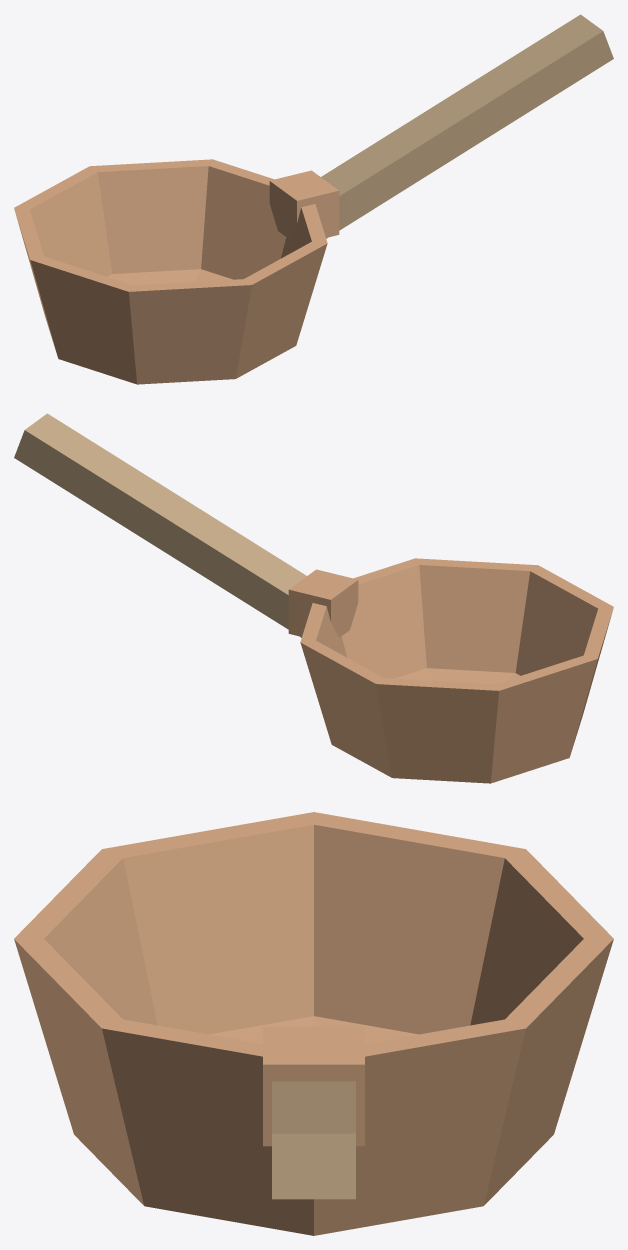
Rendered from prop-wort-scoop.fbx.
The picture shows the model from 3 angles, top to bottom: view 1: azimuth 30°, elevation 25°; view 2: azimuth 150°, elevation 25°; view 3: azimuth 270°, elevation 25°; orthographic projection. The views are drawn at different scales.
Parts seen in each view (by area): view 1: prop-wort-scoop; view 2: prop-wort-scoop; view 3: prop-wort-scoop.
Part boxes in pixels (bbox=[...]): prop-wort-scoop: bbox=[14, 14, 613, 384]; prop-wort-scoop: bbox=[14, 413, 613, 783]; prop-wort-scoop: bbox=[14, 812, 613, 1235].
Bounding box in the file's own units: 40.71 × 14.81 × 20.
